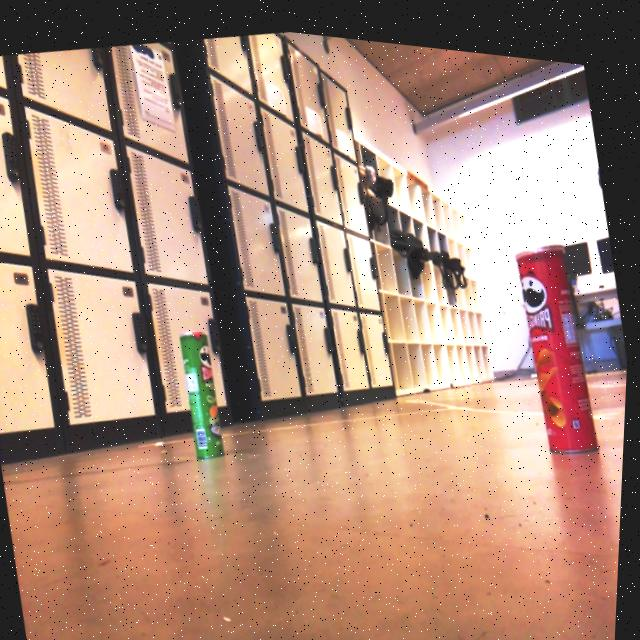greenpringles: (167, 312, 247, 470)
redpringles: (499, 214, 623, 458)
